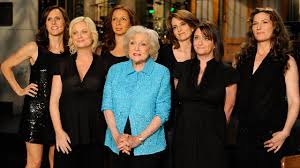white_female: (66, 18, 103, 55)
